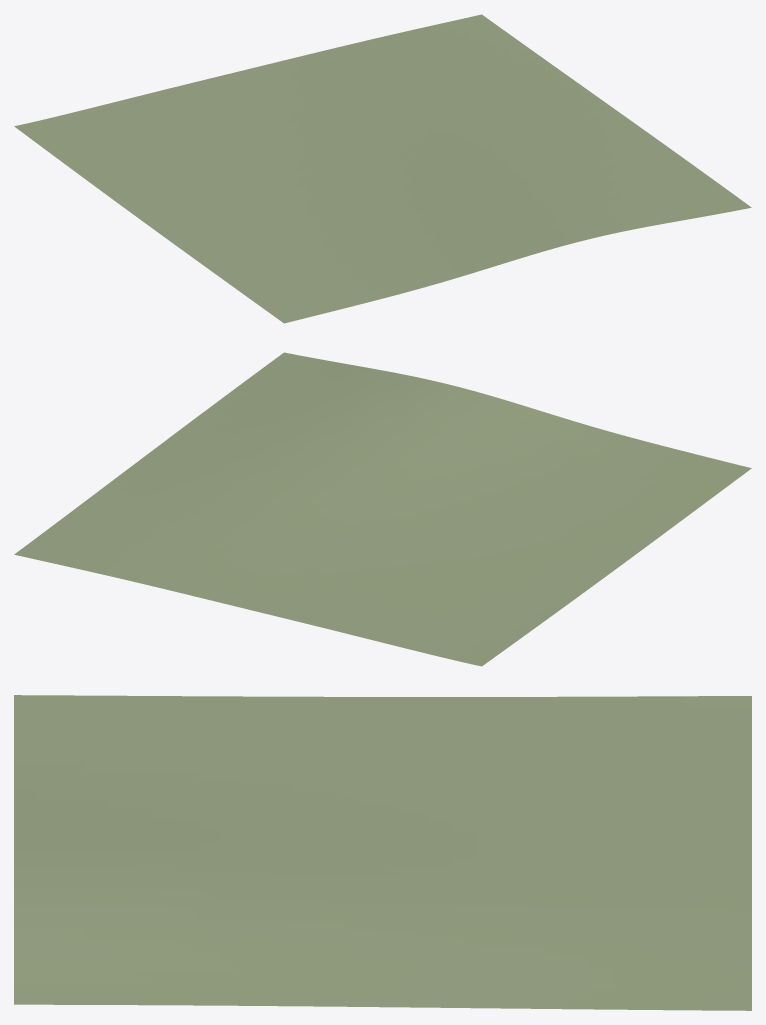
File: desert-11-4.glb
3 views of the same model, one above another, from view 1: azimuth 30°, elevation 25°; view 2: azimuth 150°, elevation 25°; view 3: azimuth 270°, elevation 25° (orthographic). The views are drawn at different scales.
Visible parts, largest first — view 1: desert-11-4; view 2: desert-11-4; view 3: desert-11-4.
Boxes of the visible parts, <box> form: desert-11-4: <box>14,14,751,323</box>; desert-11-4: <box>14,352,751,666</box>; desert-11-4: <box>14,695,751,1010</box>.
Bounding box in the file's own units: 512 × 13.26 × 512.
